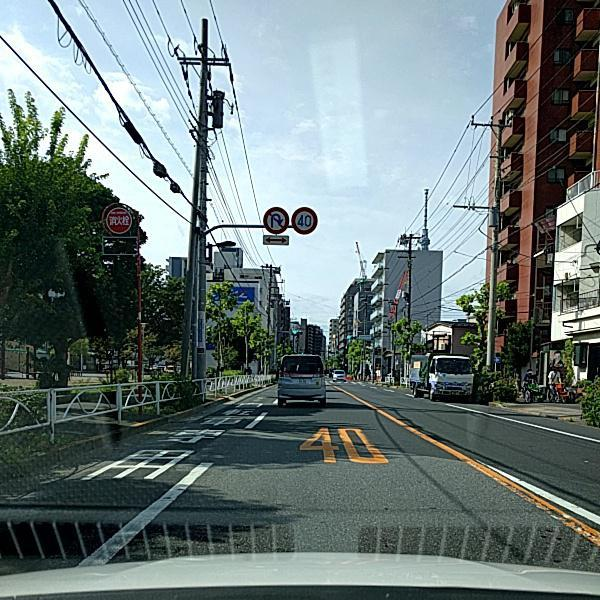D44: (74, 452, 225, 557), (459, 448, 599, 545)
